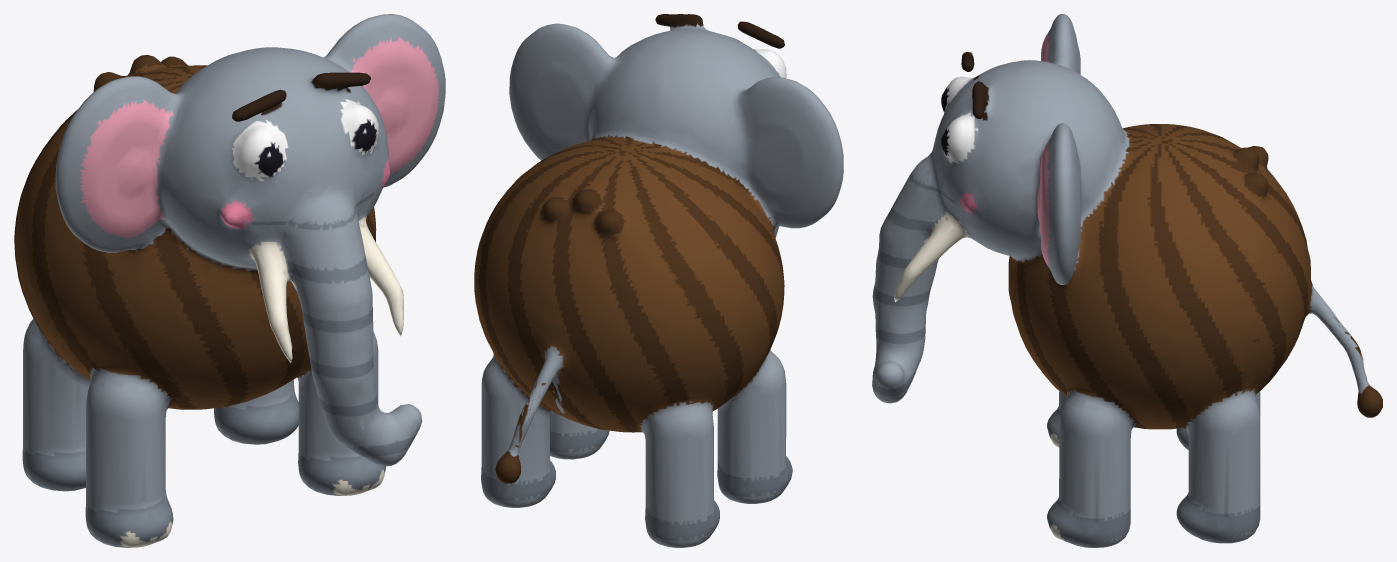
The model's file is SM_Cocofanto_Elefanto.fbx.
3 renders of one model, left to right at view 1: azimuth 30°, elevation 25°; view 2: azimuth 150°, elevation 25°; view 3: azimuth 270°, elevation 25°, orthographic. The views are drawn at different scales.
Visible parts, largest first — view 1: Cocofanto_Elefanto; view 2: Cocofanto_Elefanto; view 3: Cocofanto_Elefanto.
Part boxes in pixels (x1,y1,x2,y2): Cocofanto_Elefanto: (14, 14, 445, 547); Cocofanto_Elefanto: (474, 14, 843, 547); Cocofanto_Elefanto: (872, 14, 1382, 547).
Size of the model in its own units: 1.09 by 1.29 by 1.42.
Materials: 1 (1 with a texture image).
